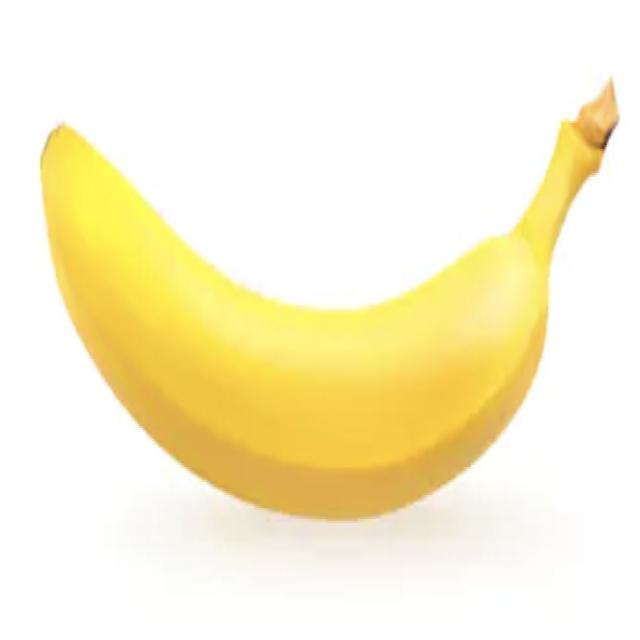fresh-banana: (39, 74, 620, 521)
